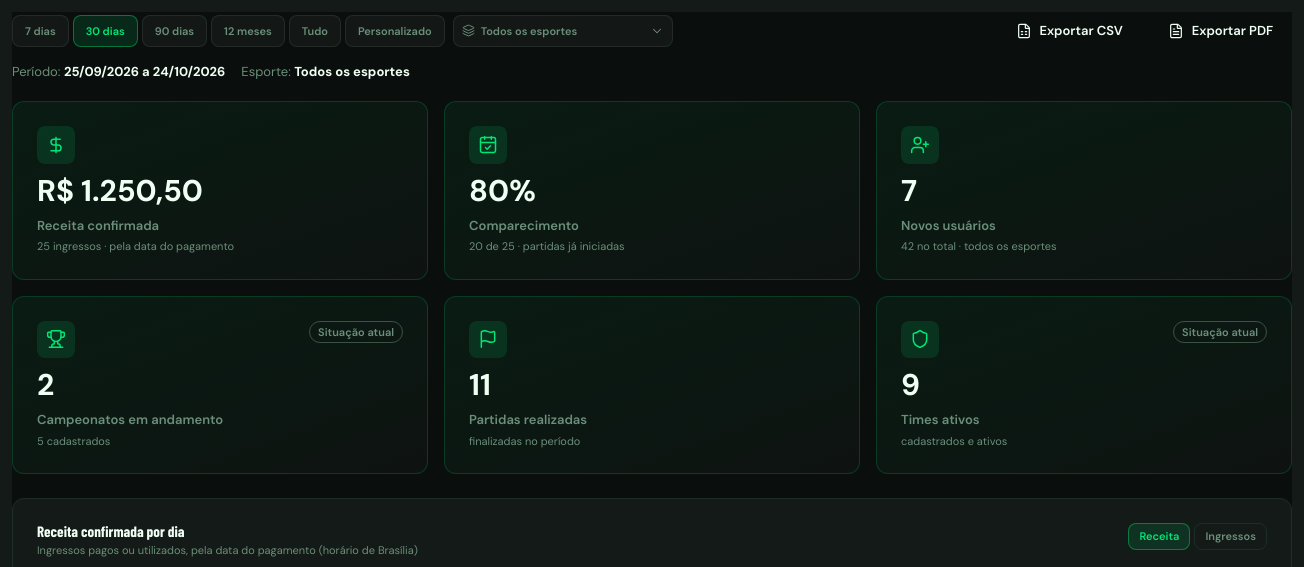
Scenario: AdminDashboard › filtrar por esporte envia o esporteId e avisa que usuários não são filtrados
Click the button titled "Filtrar por esporte".
click(563, 31)  # box [453,15,673,47]
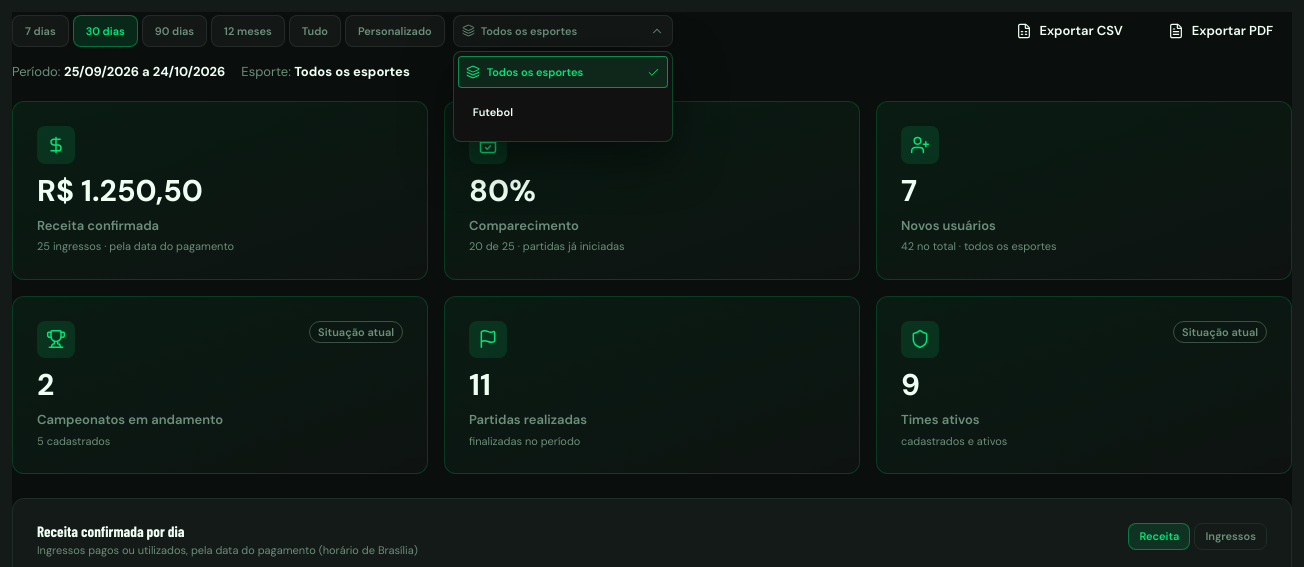
Click the option "Futebol".
click(493, 112)  # box [473,105,513,119]
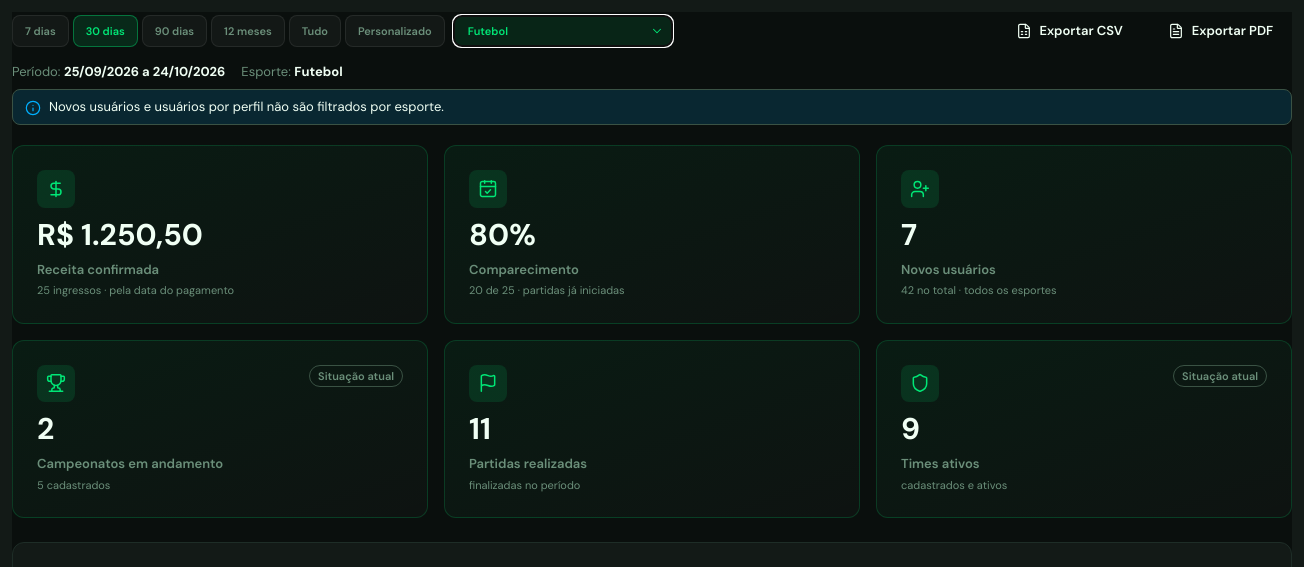
Expected: the text "não são filtrados por esporte" is shown, [49,98,444,115]
